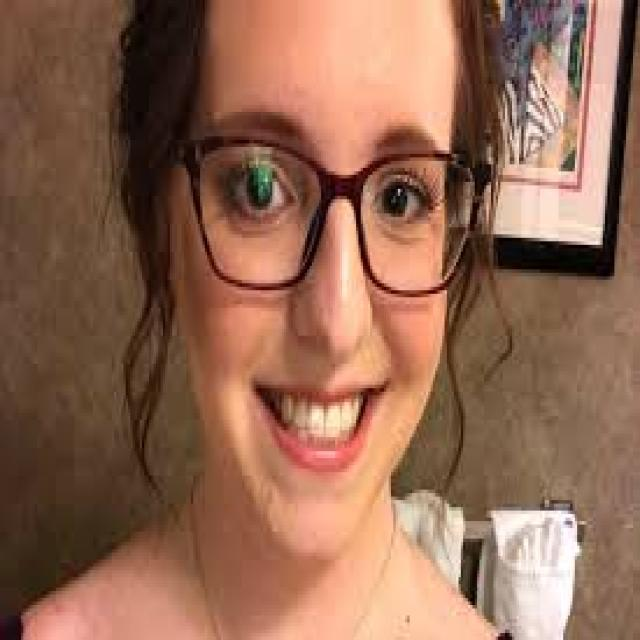normal_face: (124, 3, 492, 553)
